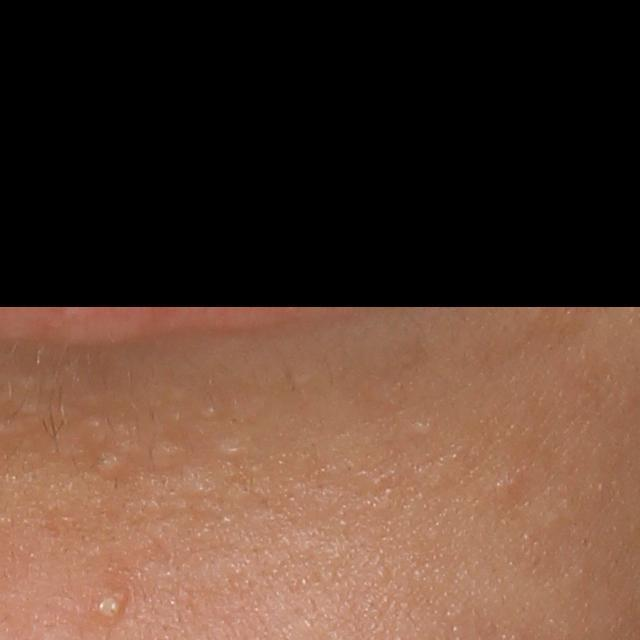hypertrophic_scar: (89, 451, 127, 478), (147, 439, 188, 463), (220, 441, 250, 460), (200, 401, 223, 424)
pustule: (81, 581, 135, 631)
